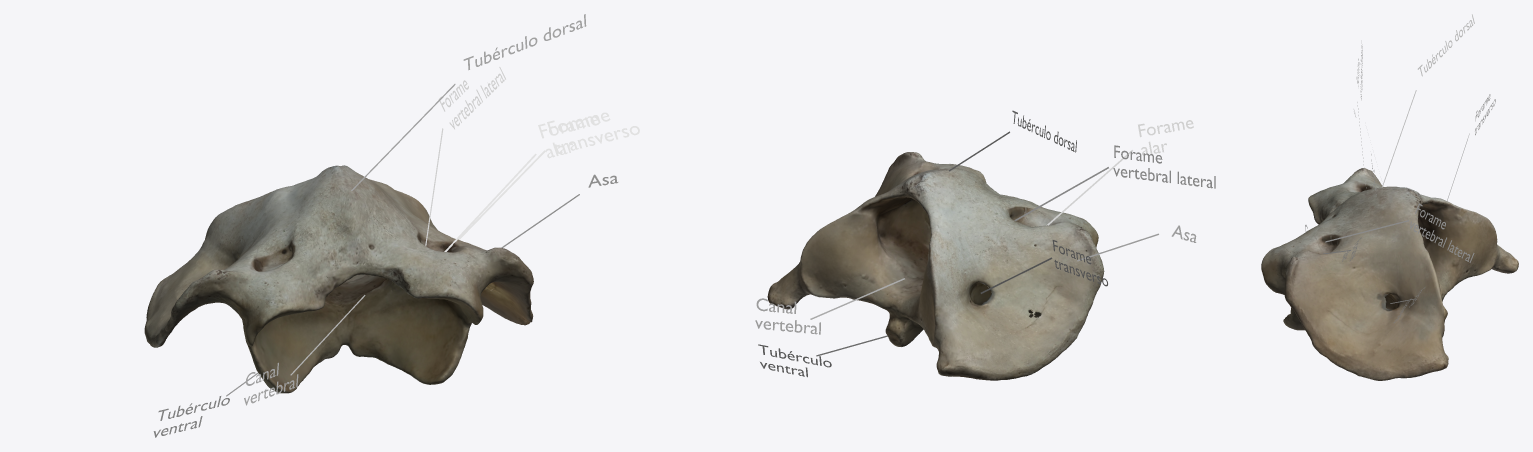
The model's file is Atlas.glb.
3 renders of one model, left to right at view 1: azimuth 30°, elevation 25°; view 2: azimuth 150°, elevation 25°; view 3: azimuth 270°, elevation 25°, orthographic. The views are drawn at different scales.
Visible parts, largest first — view 1: 3DModel, Texto.034, Texto.024, Texto.027; view 2: 3DModel, Texto.015, Texto.005; view 3: 3DModel, Texto.024, Texto.026.
Boxes of the visible parts, x1,y1,x2,y2 form: 3DModel: (144,165,533,393); Texto.034: (547,112,639,153); Texto.024: (438,67,505,129); Texto.027: (463,14,586,70); 3DModel: (767,152,1104,380); Texto.015: (1113,145,1215,188); Texto.005: (755,298,820,334); 3DModel: (1261,168,1518,380); Texto.024: (1410,203,1474,262); Texto.026: (1417,14,1474,76).
Bounding box in the file's own units: 3.51 × 2.09 × 1.83.
Materials: 1 (1 with a texture image).
